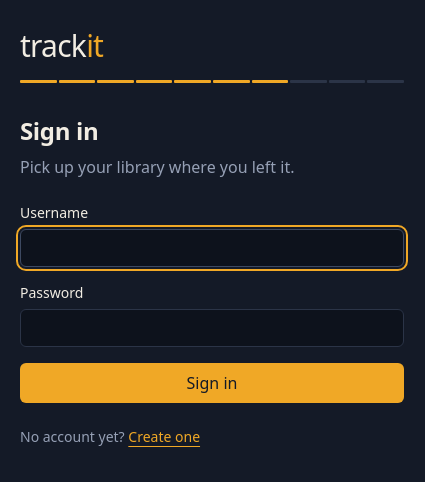
SignInPage › shows the server’s message when sign-ins are being throttled
In the field labelled "Username": coordinates (212, 248) [20, 228, 404, 266], type "steve"
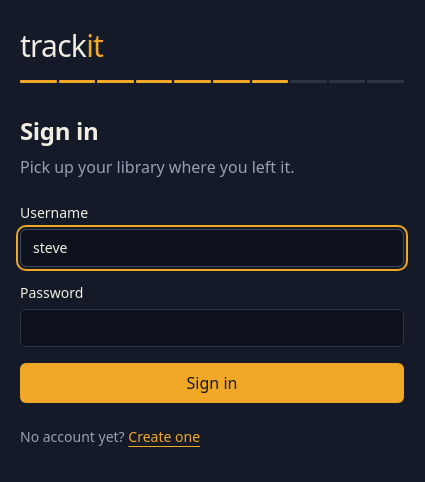
In the password field labelled "Password": coordinates (212, 328) [20, 308, 404, 346], type "password1234"
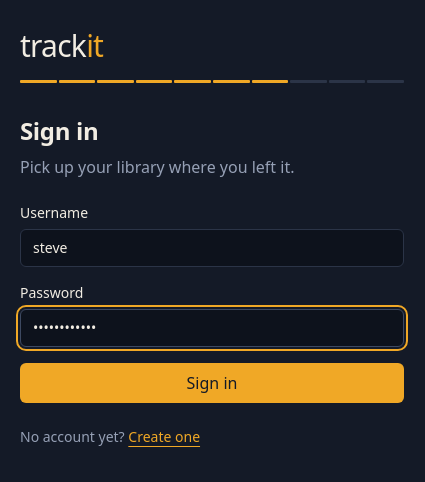
Click the button "Sign in": coordinates (212, 382) [20, 362, 404, 402]
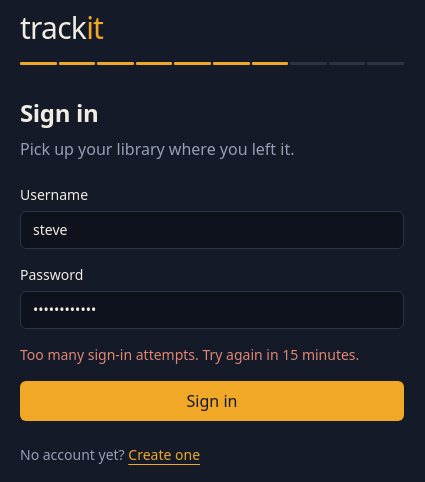
Now the message shows "Try again in 15 minutes", box [20, 344, 359, 364]
